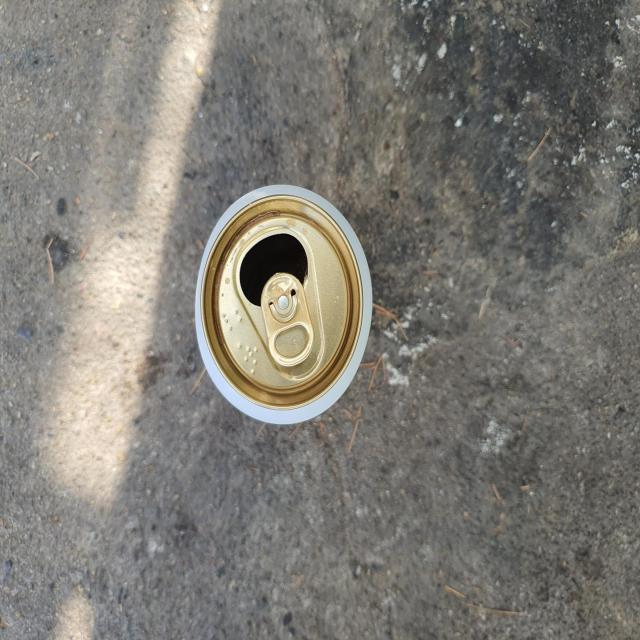can: (195, 184, 372, 424)
